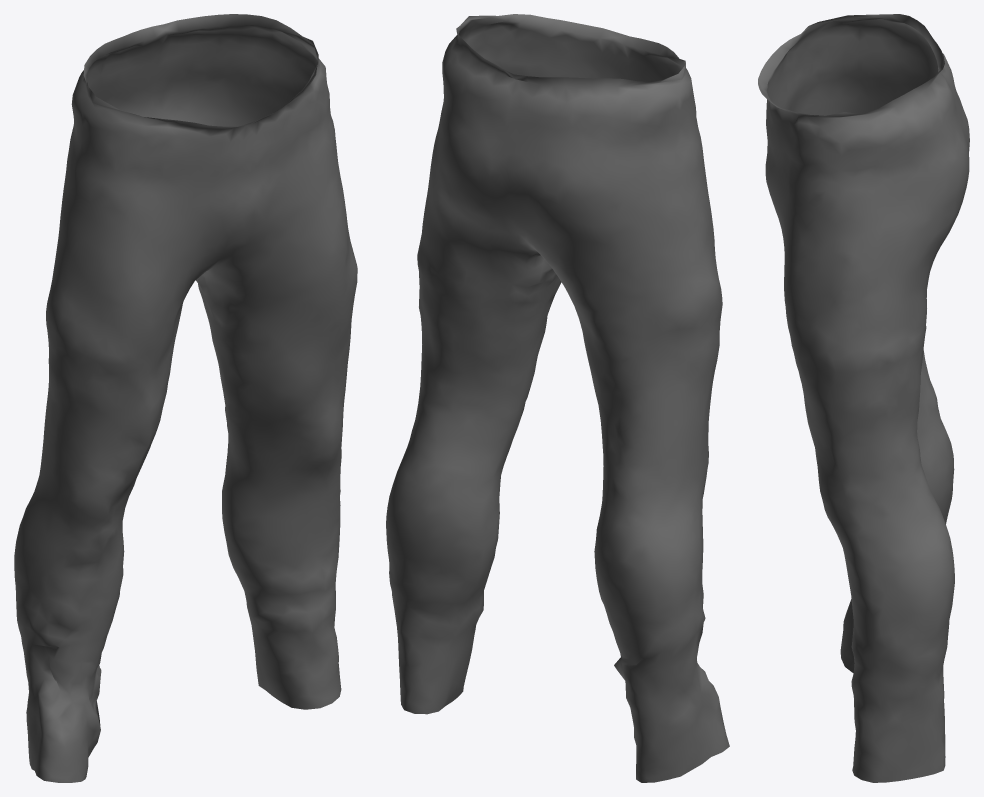
The model's file is basicPants.glb.
The picture shows the model from 3 angles, left to right: view 1: azimuth 30°, elevation 25°; view 2: azimuth 150°, elevation 25°; view 3: azimuth 270°, elevation 25°; orthographic projection. The views are drawn at different scales.
Parts seen in each view (by area): view 1: basicTrousers; view 2: basicTrousers; view 3: basicTrousers.
Part boxes in pixels (box(x1,y1,x2,y2)): basicTrousers: box(14, 14, 357, 782); basicTrousers: box(386, 14, 729, 782); basicTrousers: box(758, 14, 969, 782).
Size of the model in its own units: 4.84 by 10.41 by 2.92.
Materials: 1 (1 with a texture image).
